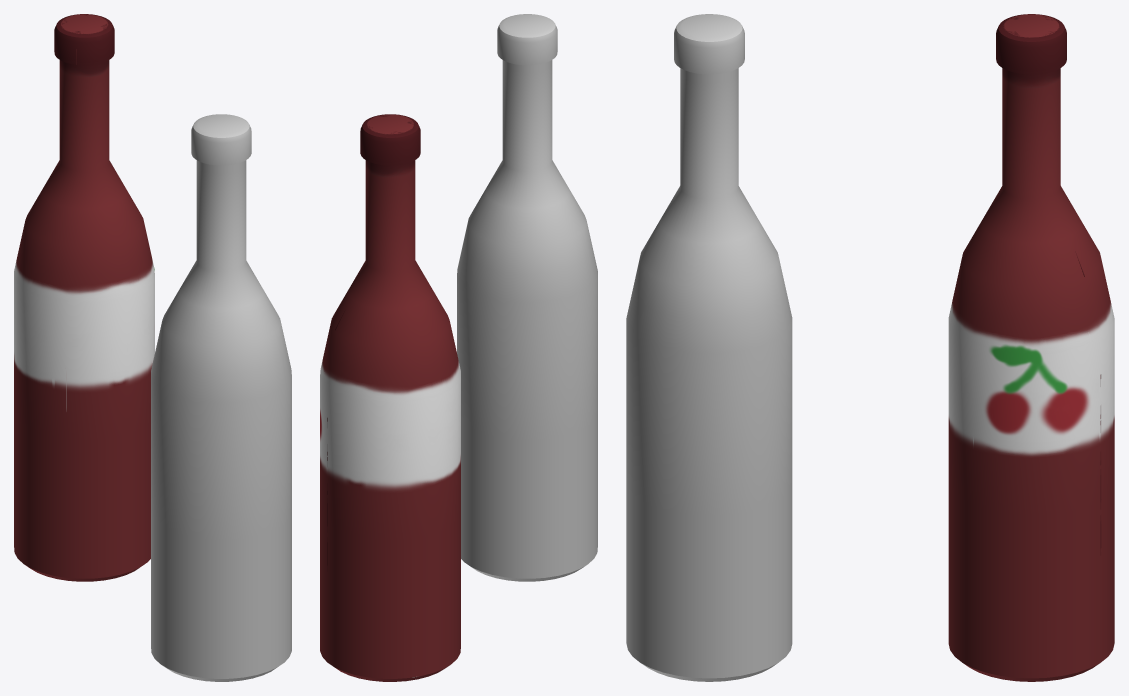
File: juice bottle.fbx
3 renders of one model, left to right at view 1: azimuth 30°, elevation 25°; view 2: azimuth 150°, elevation 25°; view 3: azimuth 270°, elevation 25°, orthographic. The views are drawn at different scales.
Visible parts, largest first — view 1: Orange juice, Orange juice.001; view 2: Orange juice.001, Orange juice; view 3: Orange juice, Orange juice.001.
Part boxes in pixels (bbox=[...]): Orange juice: bbox=[151, 114, 291, 681]; Orange juice.001: bbox=[14, 14, 154, 581]; Orange juice.001: bbox=[320, 114, 460, 681]; Orange juice: bbox=[457, 14, 597, 581]; Orange juice: bbox=[626, 14, 792, 681]; Orange juice.001: bbox=[948, 14, 1114, 681].
Bounding box in the file's own units: 200 × 830 × 588.
